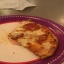pepperoni: (23, 21, 43, 32), (37, 31, 47, 45)
pizza: (8, 18, 58, 54)
